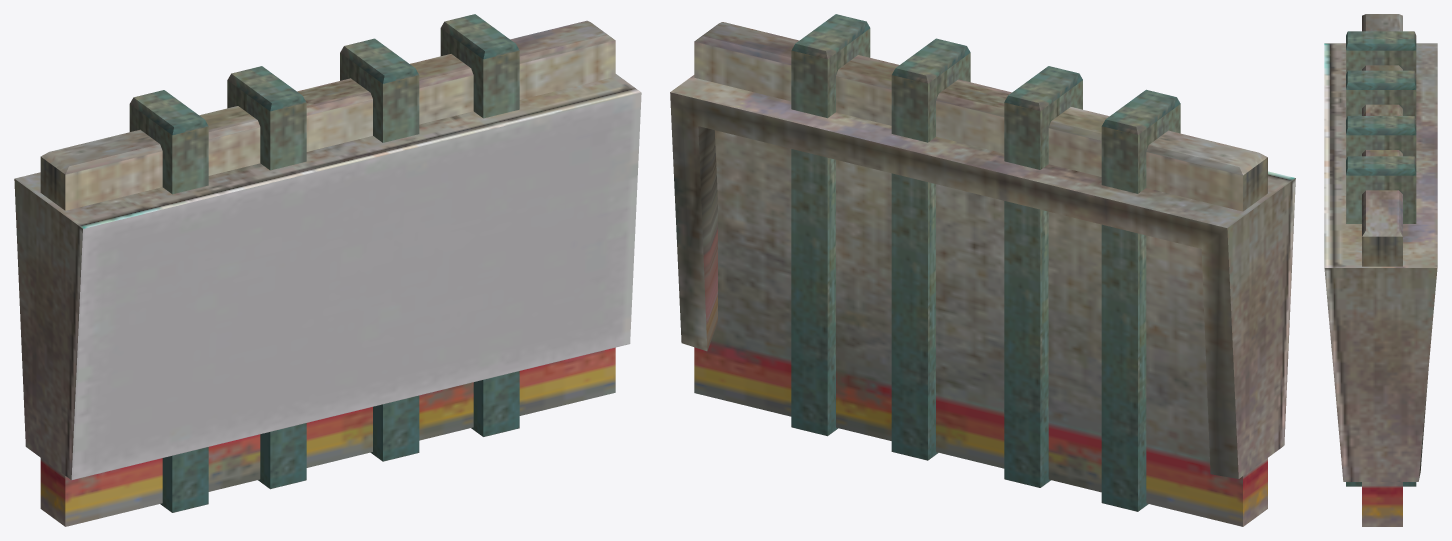
The model's file is USA - Base Building - Drive In Screen - CBDriveInF.glb.
The picture shows the model from 3 angles, left to right: view 1: azimuth 30°, elevation 25°; view 2: azimuth 150°, elevation 25°; view 3: azimuth 270°, elevation 25°; orthographic projection. The views are drawn at different scales.
Parts seen in each view (by area): view 1: CBDRIVEINF; view 2: CBDRIVEINF; view 3: CBDRIVEINF.
Boxes of the visible parts, box(x1,y1,x2,y2) form: CBDRIVEINF: box(14, 14, 641, 526); CBDRIVEINF: box(670, 14, 1295, 526); CBDRIVEINF: box(1324, 14, 1437, 526).
Size of the model in its own units: 158 by 104 by 33.65.
Materials: 1 (1 with a texture image).
